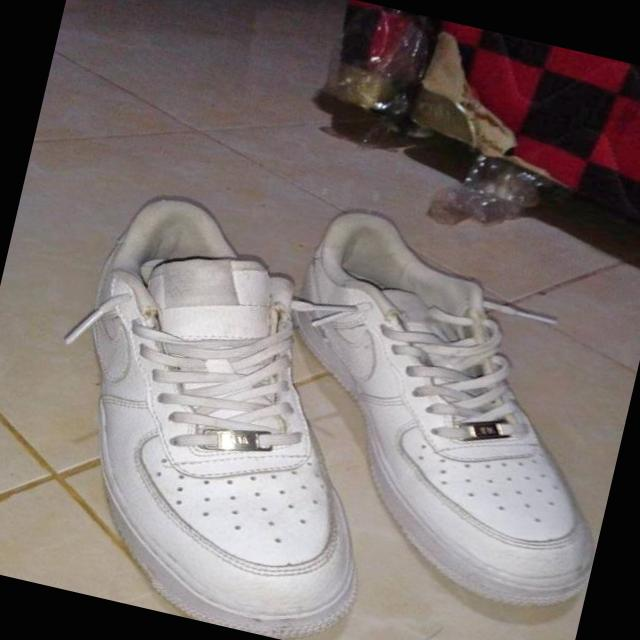nike_fake_airforce: (20, 182, 437, 640), (206, 188, 640, 624)
